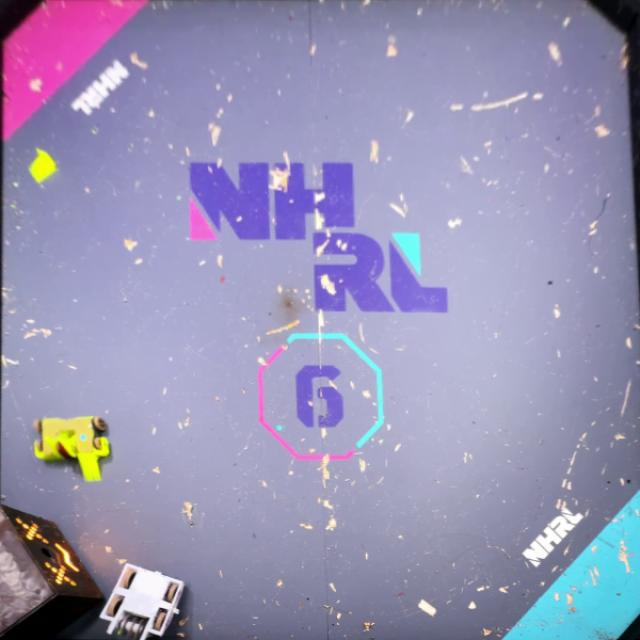housebot: (0, 503, 109, 640)
robot: (99, 557, 187, 640), (28, 406, 116, 488)
